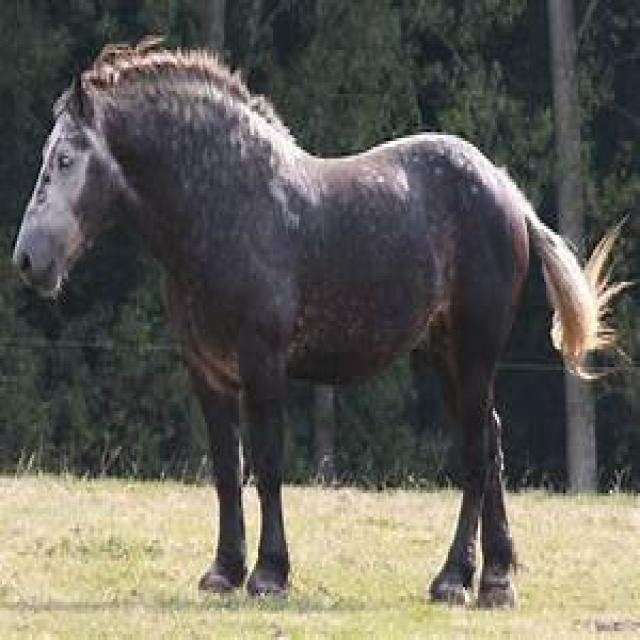horse: (11, 44, 614, 611)
